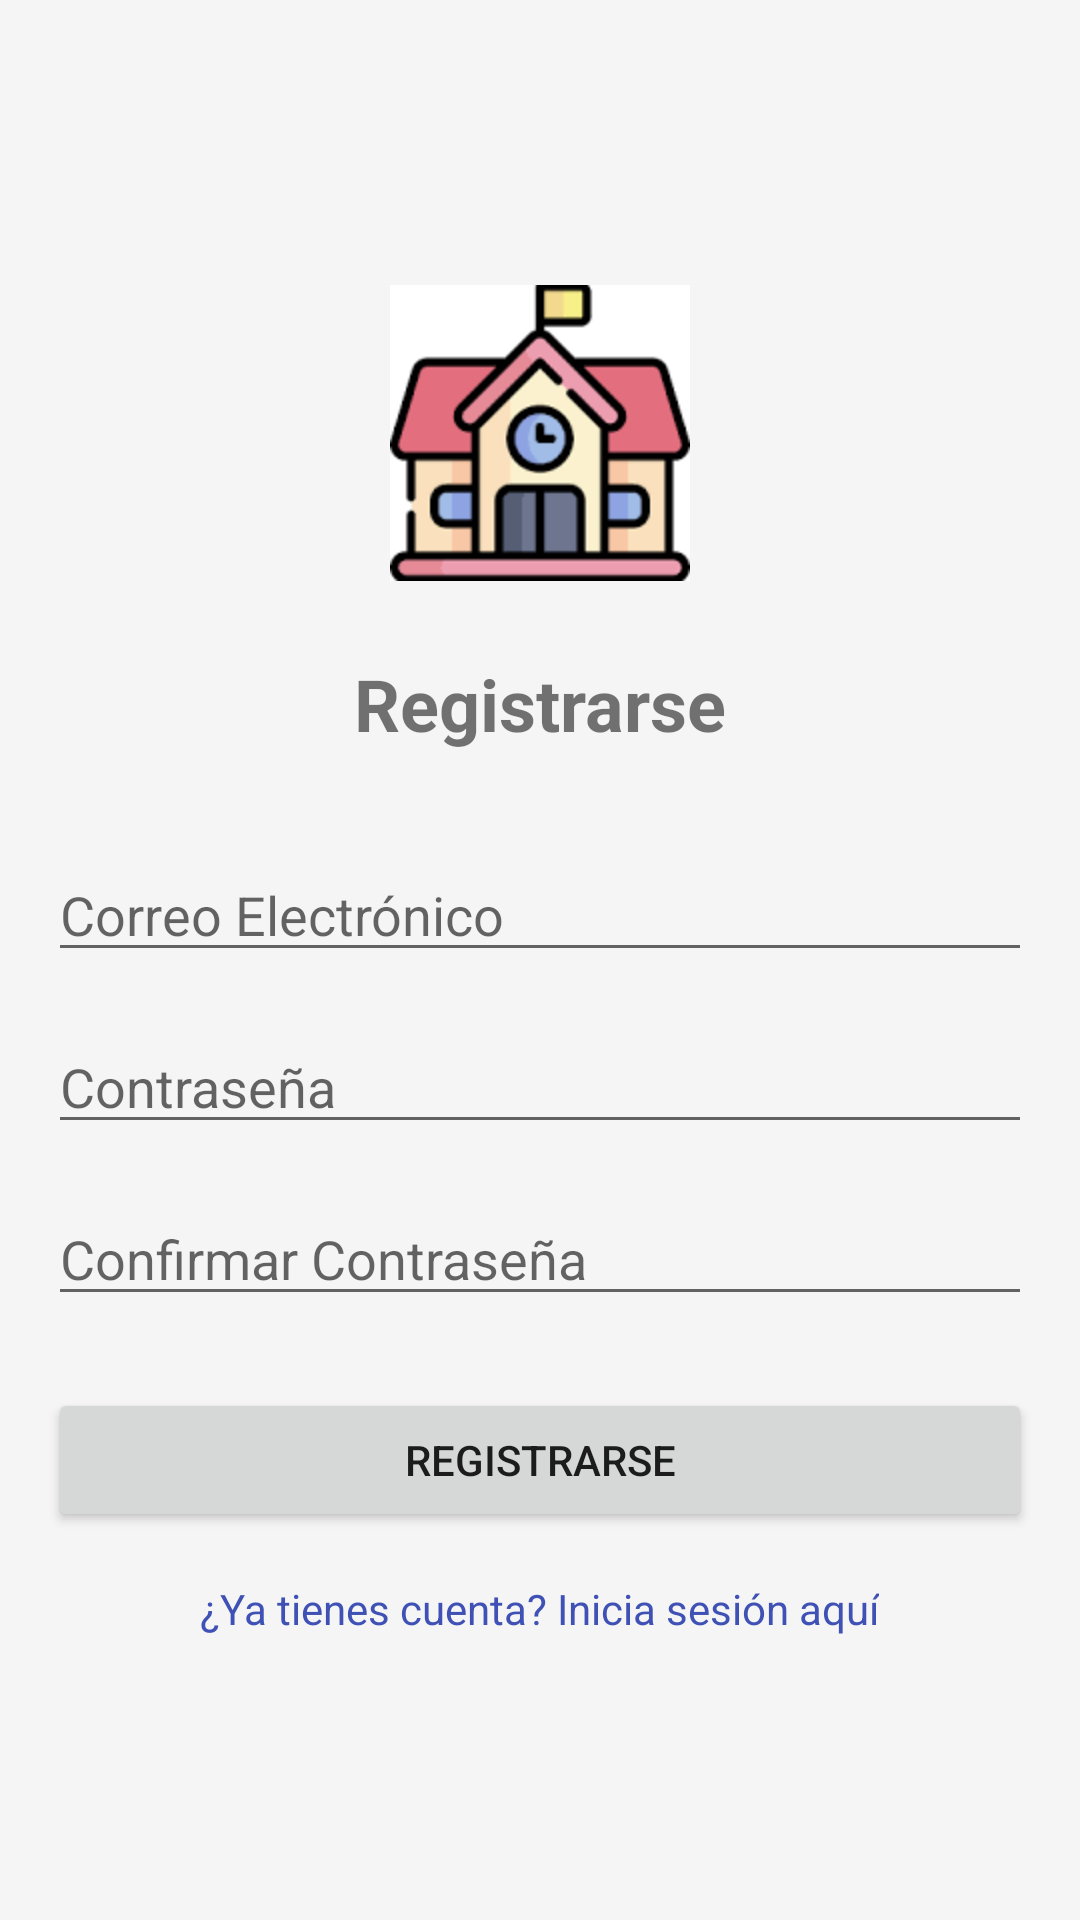

Where icons sit on this 1080 × 1920 app screen, as (x1, y1, x2, y2):
school: (390, 285, 690, 581)
